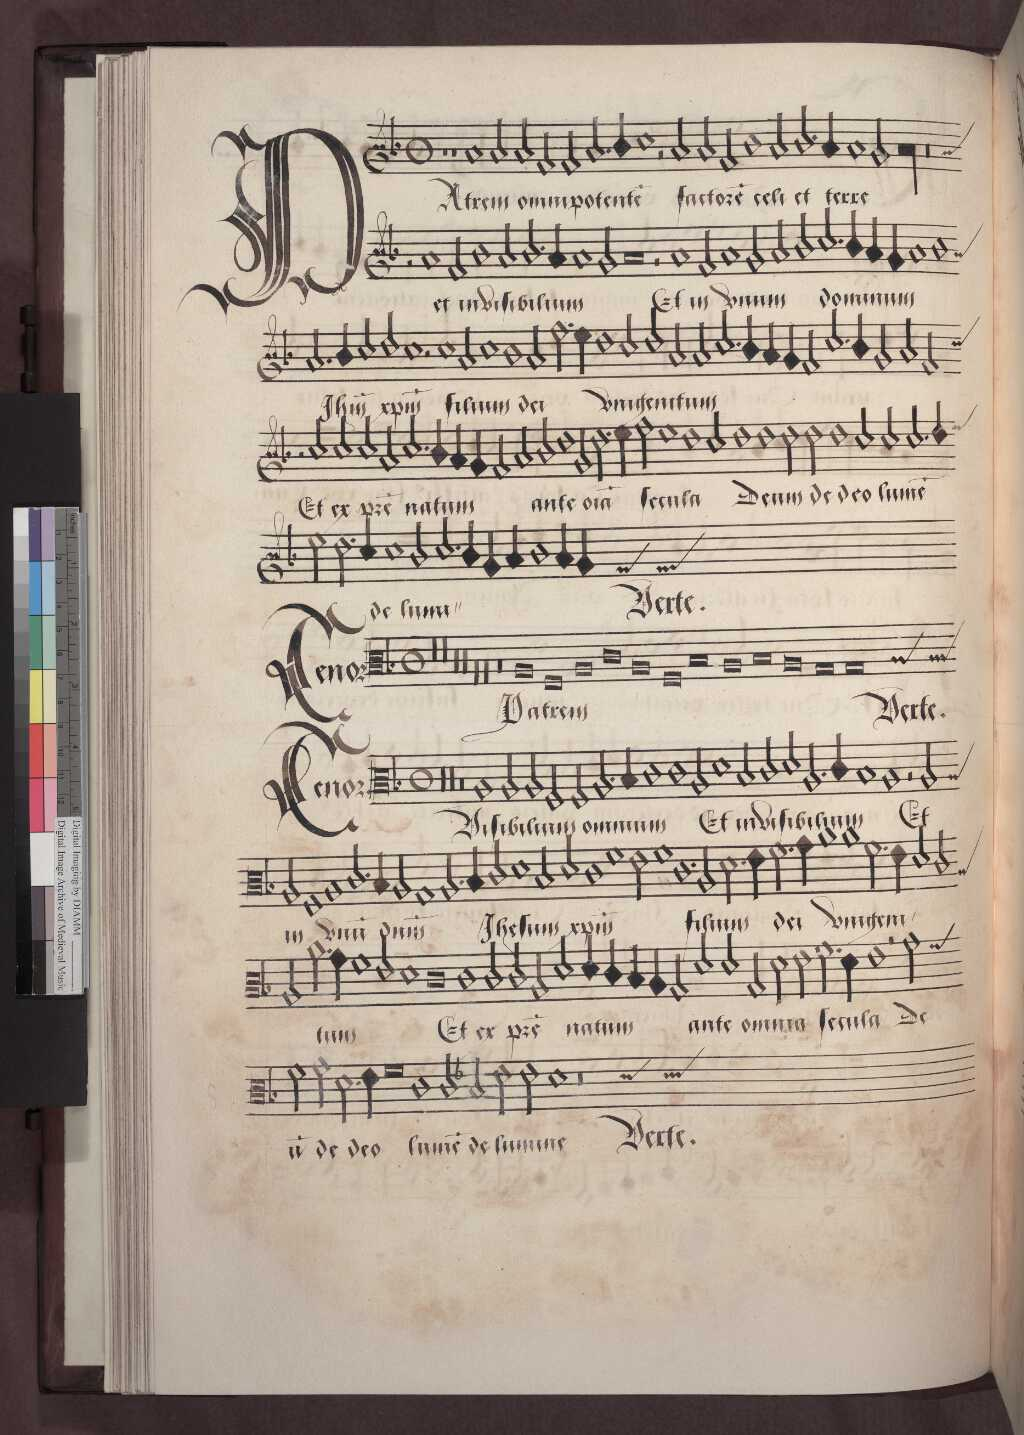breve_7: (422, 960, 452, 998)
c clef_7: (240, 952, 263, 1012)
custos_4: (926, 923, 953, 962)
flat_8: (256, 955, 274, 1003)
minim rest: (883, 931, 893, 1000)
minim_10: (668, 944, 692, 1007), (746, 941, 768, 1005)
minim_2: (305, 936, 324, 996)
minim_3: (899, 925, 922, 990)
minim_4: (811, 933, 832, 998)
minim_5: (373, 926, 396, 990), (791, 942, 812, 1006)
minim_6: (766, 944, 788, 1007), (553, 927, 575, 990), (692, 927, 716, 983), (719, 927, 743, 983)
minim_7: (481, 940, 504, 997), (512, 937, 529, 995)
minim_9: (279, 950, 303, 1016), (529, 946, 554, 1005)
point: (319, 940, 334, 959), (829, 941, 843, 959)
semibreve rest: (809, 939, 823, 956)
semibreve_4: (349, 944, 373, 983)
semibreve_5: (864, 936, 890, 976)
semibreve_6: (397, 954, 421, 994)
semibreve_7: (454, 957, 479, 1000)
semiminim_3: (328, 939, 348, 1007)
semiminim_6: (840, 944, 863, 1009), (578, 929, 601, 990)
semiminim_7: (604, 933, 626, 994)
semiminim_8: (626, 937, 647, 998)
semiminim_9: (648, 940, 668, 1004)
